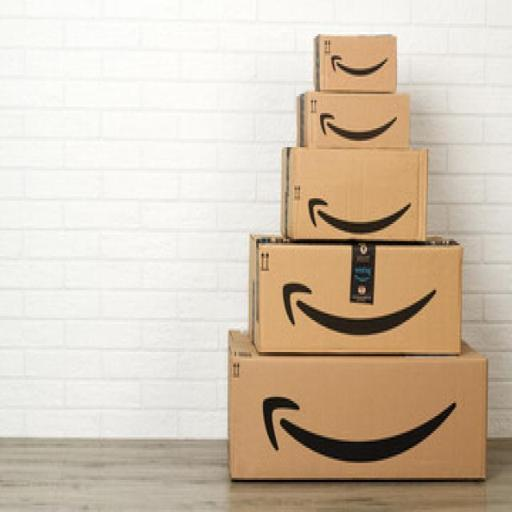Amazon: (227, 331, 487, 482), (249, 233, 462, 356), (280, 145, 427, 242), (299, 92, 415, 149), (309, 27, 401, 94)
